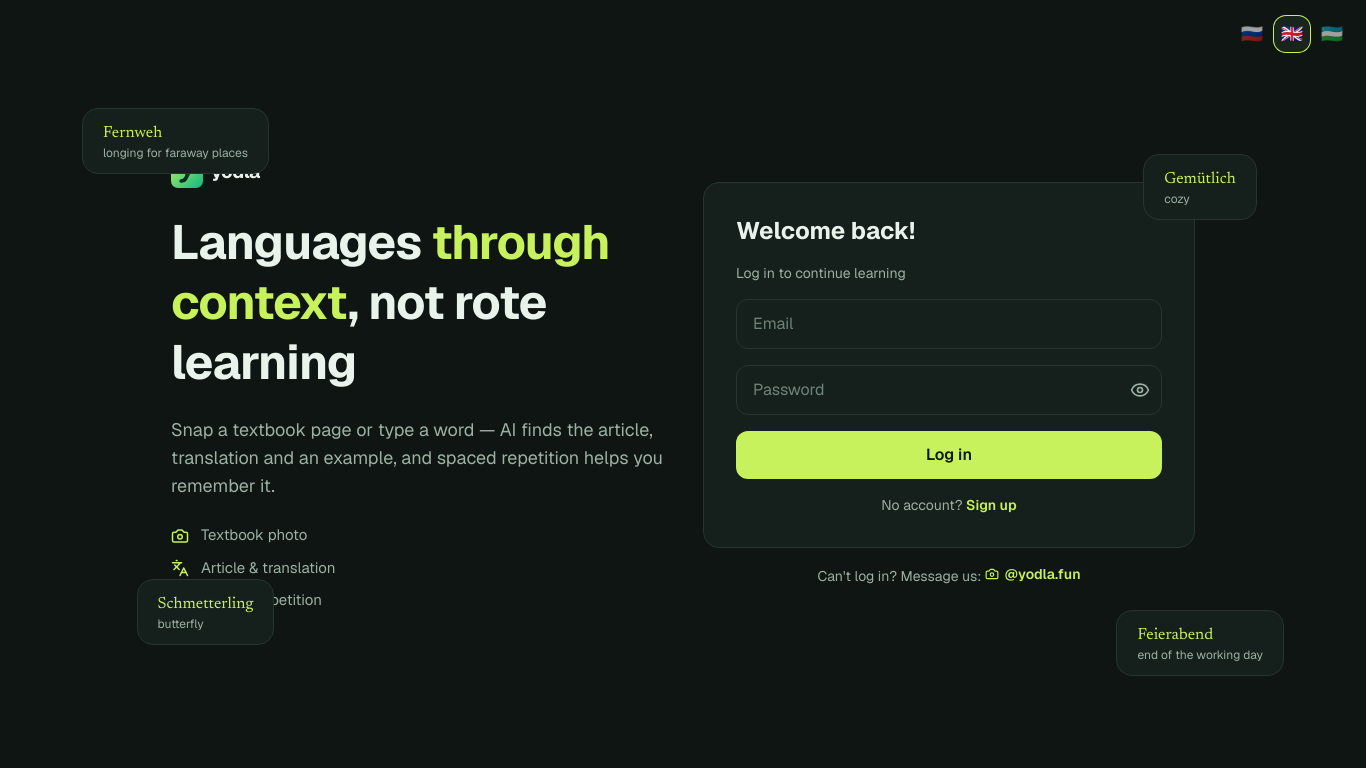
Scenario: password visibility › the eye shows the password and its label flips; a second click hides it again
In the password field with placeholder "Password": (949, 390) [736,365,1162,415], type "secret123"
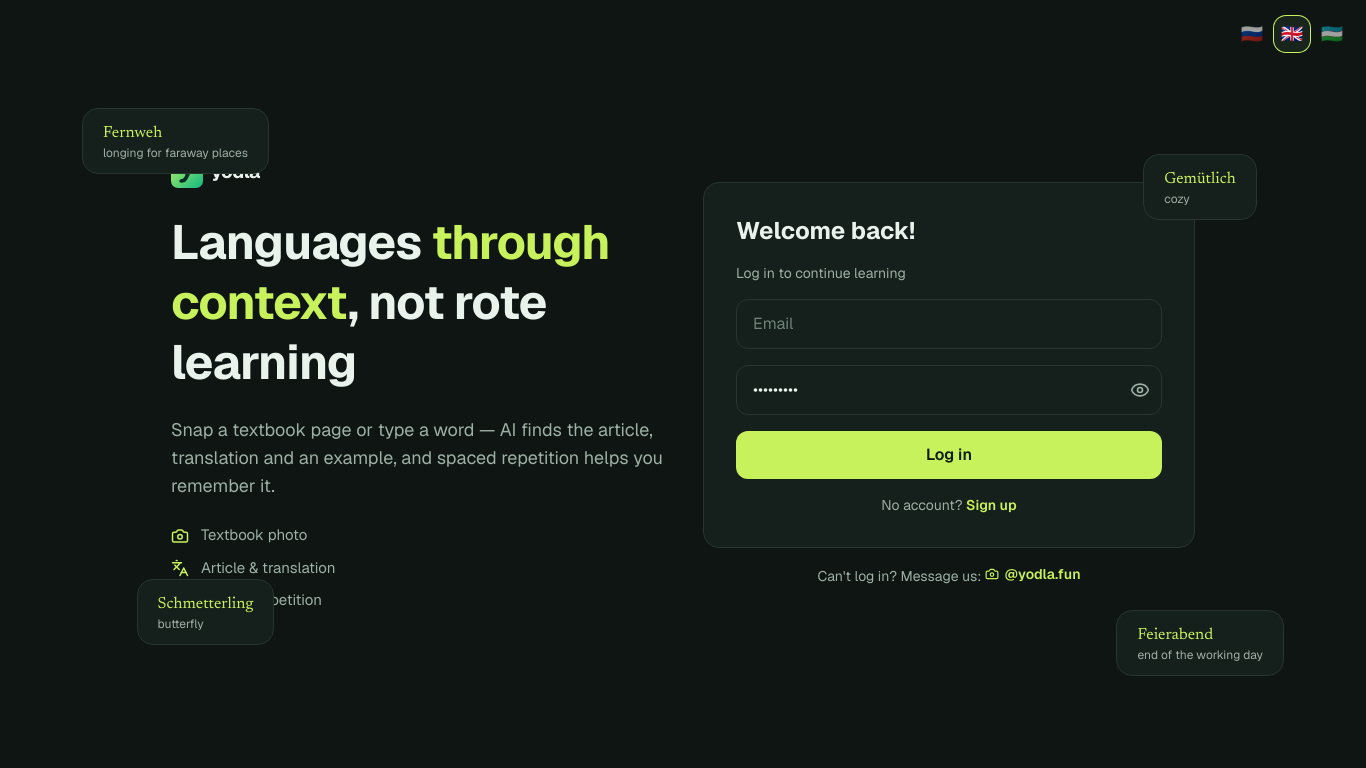
Click the button named "Show password": (1140, 390) [1118,368,1162,412]
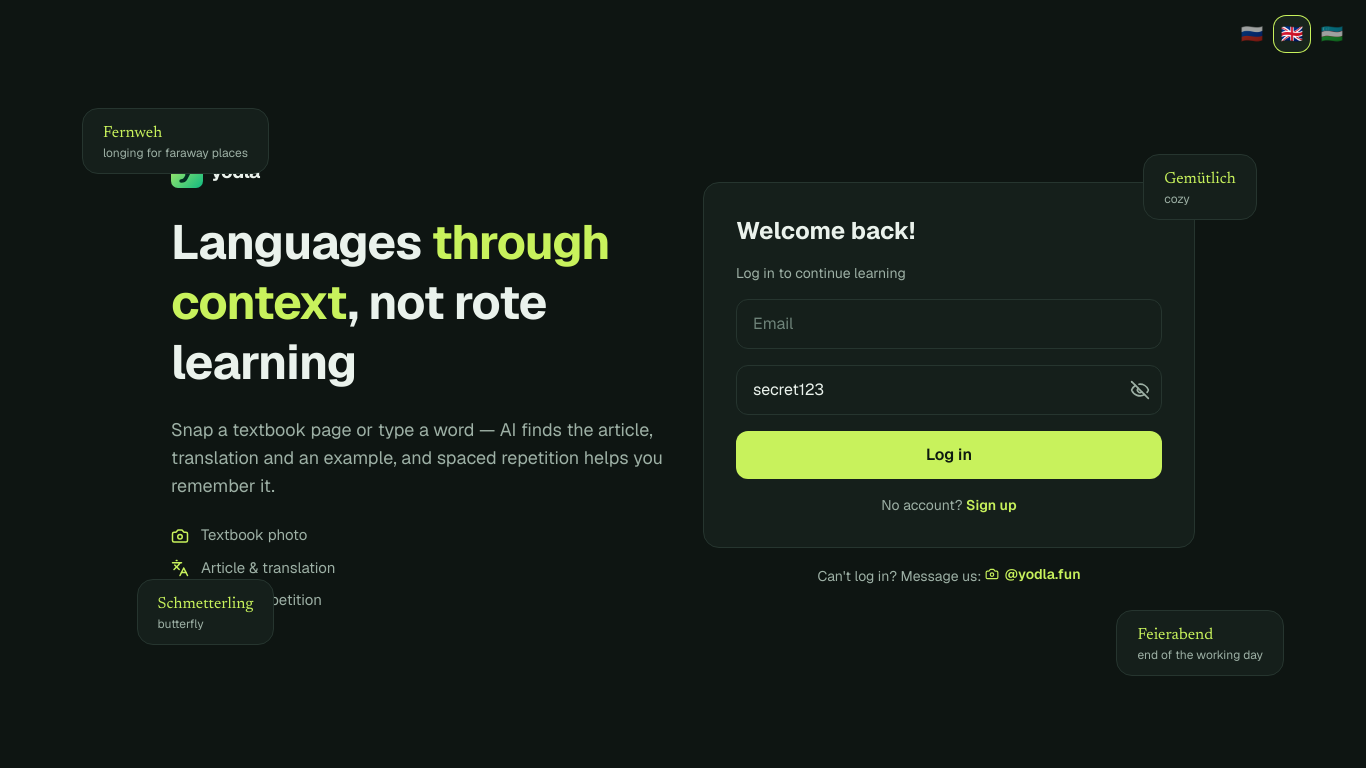
Expected: the button named "Hide password" is pressed
Click the button named "Hide password": (1140, 390) [1118,368,1162,412]
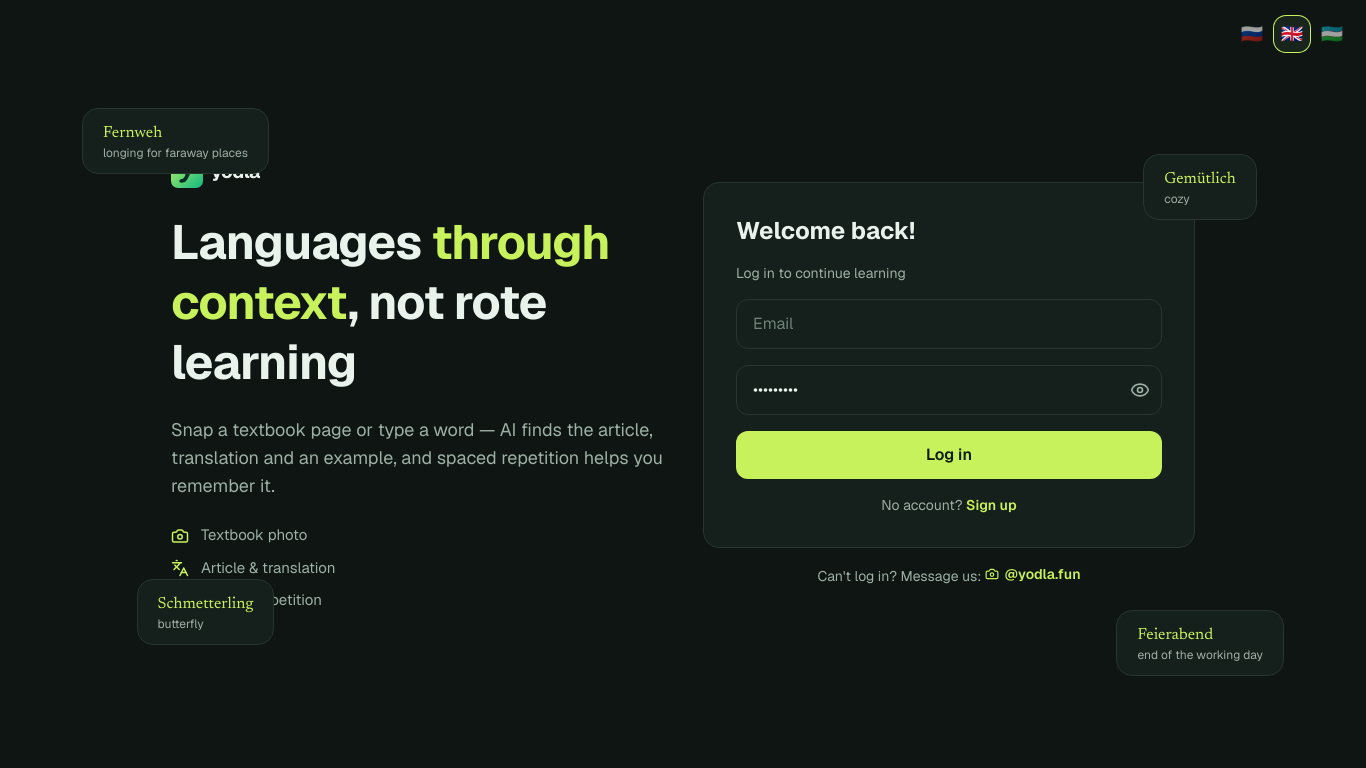
Expected: the button named "Show password" is shown, [1118,368,1162,412]
